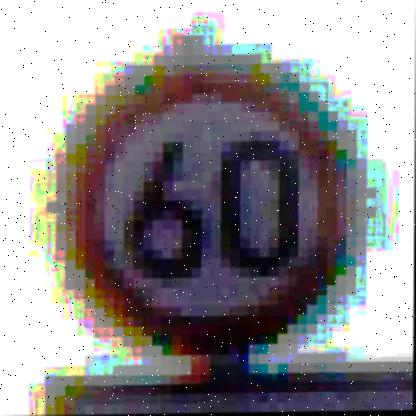Speed Limit -60-: (52, 48, 364, 367)
